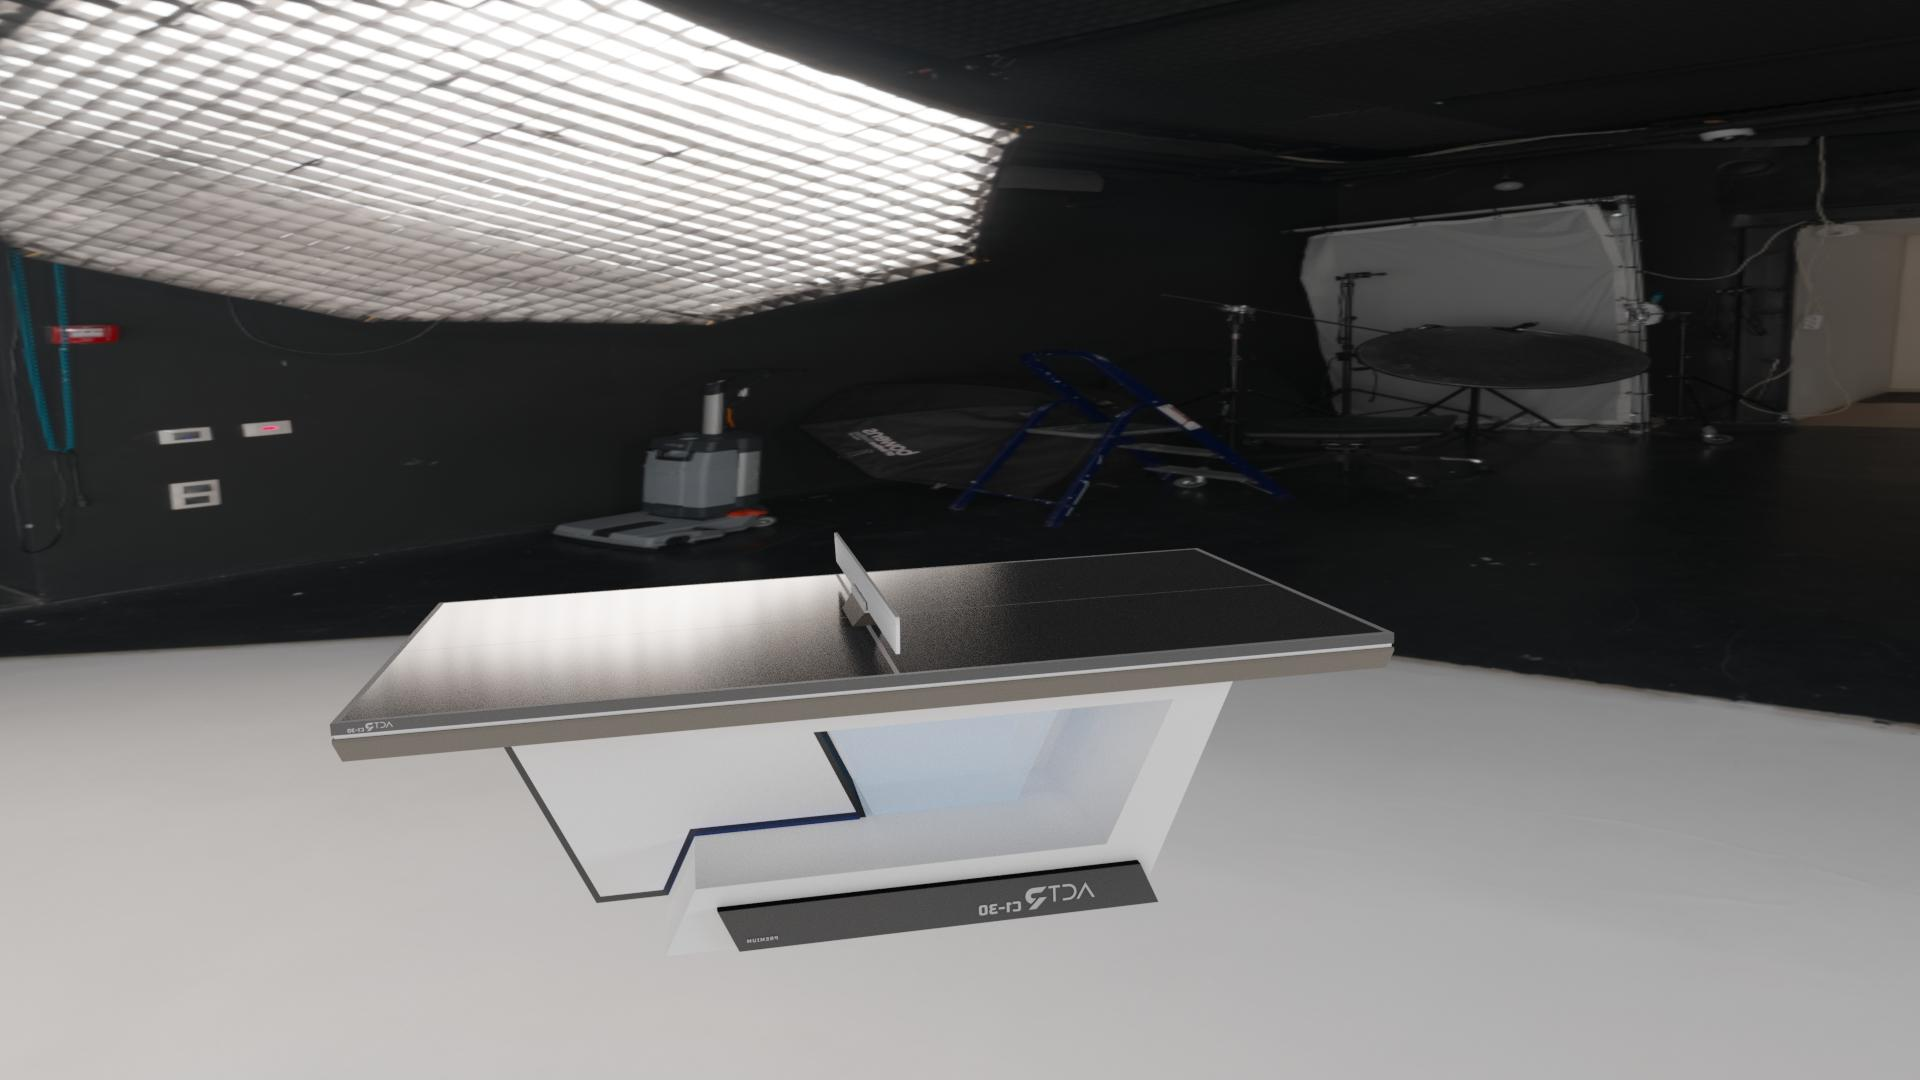table: (340, 549, 1385, 721)
